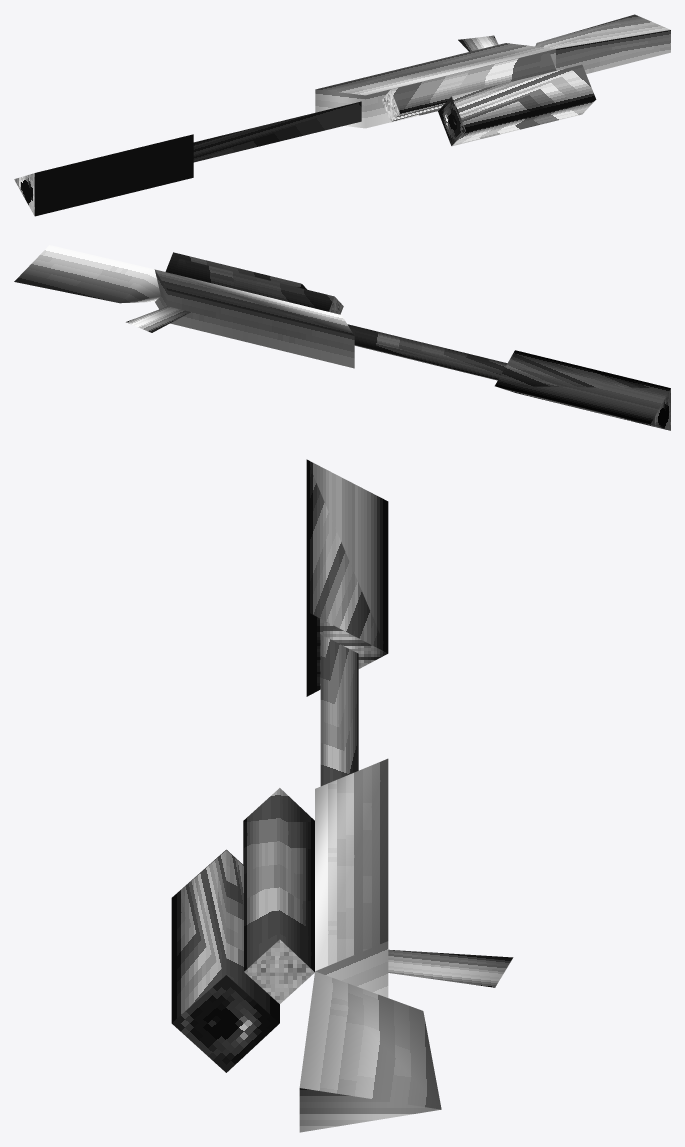
The model's file is PchrsniperrifleZ.obj.
3 views of the same model, one above another, from view 1: azimuth 30°, elevation 25°; view 2: azimuth 150°, elevation 25°; view 3: azimuth 270°, elevation 25° (orthographic). The views are drawn at different scales.
Bounding box in the file's own units: 1023 × 90 × 243.
Materials: 6 (6 with a texture image).
